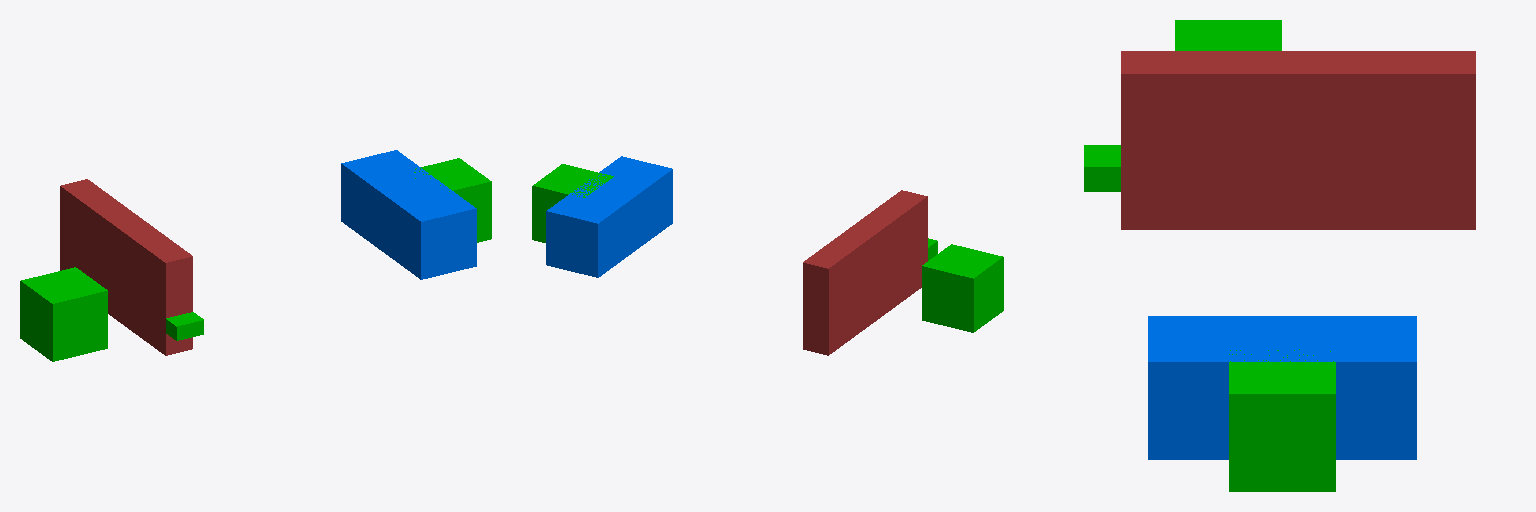
URDF robot description (maze2):
<robot name="maze2">
    <link name="base_link"/>

    <link name="table">
      <visual>
        <geometry>
          <mesh filename="[local-path]/rb_ws/robowflex/robowflex_dart/include/io/envs/maze2/meshes/maze2table.dae" scale=" 0.750 0.750 0.750"/>
        </geometry>
        <origin rpy="0 0 0" xyz="0 0 0"/>

<material name="">
          <color rgba="0.87450980392 0.87450980392 0.87058823529 1.0"/>
      </material>

      </visual>
      <collision>
        <geometry>
          <mesh filename="[local-path]/rb_ws/robowflex/robowflex_dart/include/io/envs/maze2/meshes/maze2table.dae" scale=" 0.750 0.750 0.750"/>
        </geometry>
        <origin rpy="0 0 0" xyz="0 0 0"/>       
       </collision>
    </link>

    <link name="link_0_joint_0">
      <visual>
        <geometry>
          <box size="0.1 0.1 0.1"/>
        </geometry>
        <origin rpy="0 0 0" xyz="0 0 0"/>
      <material name="">
          <color rgba="0.0 0.8 0.0 1.0"/>
      </material>
      </visual>
      <collision>
        <geometry>
          <box size="0.1 0.1 0.1"/>
        </geometry>
        <origin rpy="0 0 0" xyz="0 0 0"/>       
       </collision>
    </link>


<link name="cube_x"/>


     <link name="link_1_joint_0">
      <visual>
        <geometry>
          <box size="0.05 0.33 0.16"/>
        </geometry>
        <origin rpy="0 0 0" xyz="0.0 0.0 0"/>
        <material name="">
          <color rgba="0.6901 0.2509 0.2509 1.0"/>
      </material>
      </visual>
      <collision>
        <geometry>
          <box size="0.05 0.33 0.16"/>
        </geometry>
        <origin rpy="0 0 0" xyz="0.0 0.0 0"/>
       </collision>
    </link>

     <link name="link_t">
      <visual>
      <origin rpy="0 0 0" xyz="0 0 0"/>
        <geometry>
          <box size="0.05 0.035 0.025"/>
        </geometry>
             <material name="">
          <color rgba="0.0 0.8 0.0 1.0"/>
      </material>
      </visual>
    </link>


    <link name="link_2_joint_0">
      <visual>
        <geometry>
          <box size="0.1 0.25 0.1"/>
        </geometry>
        <origin rpy="0 0 0" xyz="0 0 0"/>
      <material name="">
          <color rgba="0.0 0.50196078431 1.0 1.0"/>
      </material>
      </visual>
      <collision>
        <geometry>
          <box size="0.1 0.25 0.1"/>
        </geometry>
        <origin rpy="0 0 0" xyz="0 0 0"/>
      </collision>
    </link>

<link name="obs_x"/>

 <link name="cube_goal">
      <visual>
        <geometry>
          <box size="0.1 0.1 0.1"/>
        </geometry>
        <origin rpy="0 0 0" xyz="0 0 0"/>
      <material name="">
          <color rgba="0.0 0.8 0.0 0.4"/>
      </material>
      </visual>
    </link>


<joint name="table_j" type="fixed">
    <origin rpy="0 0 0" xyz="0.9 -0.4 0.73"/>
    <parent link="base_link"/>
    <child link="table"/>
    <axis xyz="0 1 0"/>
  </joint>


<joint name="goal" type="fixed">
    <origin rpy="0 0 0" xyz="1.02 -0.75 0.87"/>
    <parent link="base_link"/>
    <child link="cube_goal"/>
  </joint>


<joint name="link_0_joint_0" type="prismatic">
    <origin rpy="0 0 0" xyz="0.30 -0.8 0.87"/>
    <parent link="base_link"/>
    <child link="cube_x"/>
   <axis xyz="1 0 0"/>
  <limit lower="-0.1" upper="0.85" effort="0.05" velocity="1.57"/>
  </joint>


<joint name="link_0_joint_1" type="prismatic">
    <origin rpy="0 0 0" xyz="0.0 0 0.0"/>
    <parent link="cube_x"/>
    <child link="link_0_joint_0"/>
   <axis xyz="0 1 0"/>
  <limit lower="0.0" upper="1.05" effort="0.05" velocity="1.57"/>
  </joint>



    <joint name="link_1_joint_0" type="prismatic">
        <origin rpy="0 0 0" xyz="0.45 -0.735 0.89"/>
        <parent link="base_link"/>
        <child link="link_1_joint_0"/>
        <axis xyz="1 0 0"/>
        <limit lower="-0.25" upper="0.5" effort="5" velocity="1.57"/>
    </joint>

 <joint name="door_joint2" type="fixed">
        <origin rpy="0 0 0" xyz="0.0 -0.182 -0.028"/>
        <parent link="link_1_joint_0"/>
        <child link="link_t"/>
    </joint>



<joint name="link_2_joint_0" type="prismatic">
    <origin rpy="0 0 0" xyz="0.95 -0.75 0.87"/>
    <parent link="base_link"/>
    <child link="obs_x"/>
   <axis xyz="1 0 0"/>
  <limit lower="-0.70" upper="0.20" effort="0.05" velocity="1.57"/>
  </joint>


<joint name="link_2_joint_1" type="prismatic">
    <origin rpy="0 0 0" xyz="0.0 0 0.0"/>
    <parent link="obs_x"/>
    <child link="link_2_joint_0"/>
   <axis xyz="0 1 0"/>
  <limit lower="-0.1" upper="0.90" effort="0.05" velocity="1.57"/>
  </joint>




</robot>

--- What the picture shows (computed from the rendered views, not written in the file) ---
The picture shows the robot from 3 angles, left to right: view 1: azimuth 30°, elevation 25°; view 2: azimuth 150°, elevation 25°; view 3: azimuth 270°, elevation 25°; orthographic projection.
Robot: maze2 — 9 links, 8 joints (5 prismatic, 3 fixed); root link base_link; default pose: all joints at 0.
Visible links, largest first — view 1: link_1_joint_0, link_2_joint_0, link_0_joint_0, cube_goal, link_t; view 2: link_1_joint_0, link_2_joint_0, link_0_joint_0, cube_goal; view 3: link_1_joint_0, link_2_joint_0, cube_goal, link_0_joint_0, link_t.
Boxes of the visible links, box(x1,y1,x2,y2) form: link_1_joint_0: box(60, 179, 192, 355); link_2_joint_0: box(341, 150, 476, 279); link_0_joint_0: box(20, 267, 107, 361); cube_goal: box(414, 158, 491, 242); link_t: box(166, 312, 203, 340); link_1_joint_0: box(803, 190, 927, 355); link_2_joint_0: box(546, 156, 672, 277); link_0_joint_0: box(922, 244, 1003, 332); cube_goal: box(532, 164, 613, 242); link_1_joint_0: box(1121, 51, 1475, 229); link_2_joint_0: box(1148, 316, 1416, 459); cube_goal: box(1229, 349, 1335, 491); link_0_joint_0: box(1175, 20, 1281, 50); link_t: box(1084, 145, 1120, 191).
Bounding box of the posed robot: 0.82 × 0.3645 × 0.16 m (x, y, z).
Geometry: only primitive shapes (box / cylinder / sphere) drawn; not drawn: 1 mesh visual (reference in a form the renderer does not follow).